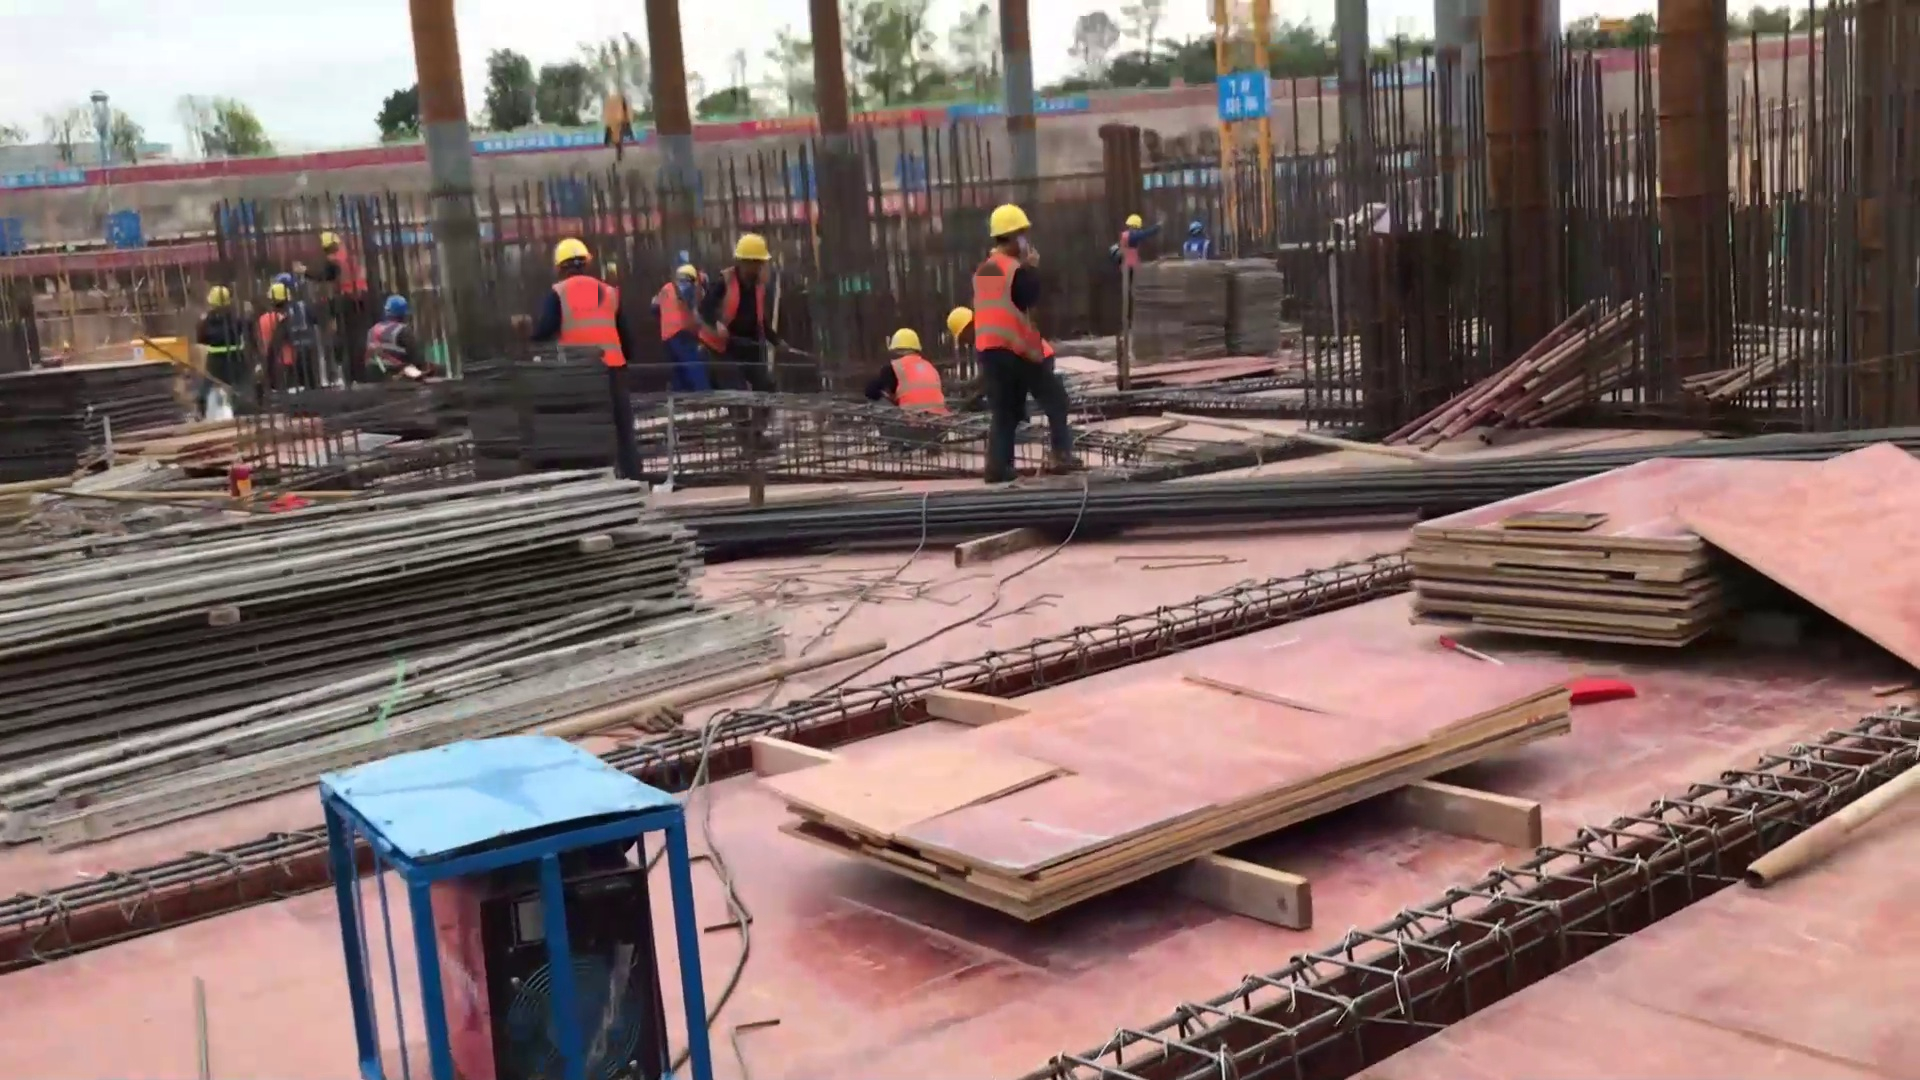board: (861, 621, 1533, 879), (1394, 427, 1920, 631), (3, 356, 193, 459), (1138, 252, 1288, 367), (126, 409, 323, 464)
ebox: (131, 317, 184, 347)
helmet: (993, 202, 1035, 238), (552, 238, 593, 262), (736, 233, 770, 258), (893, 323, 920, 353), (944, 308, 975, 335), (677, 264, 711, 284), (208, 285, 236, 306), (386, 297, 408, 317), (271, 282, 289, 306), (1185, 218, 1206, 234), (324, 227, 338, 250), (1123, 214, 1148, 225), (283, 270, 297, 288)
hook: (600, 93, 633, 167)
person: (971, 196, 1085, 481), (545, 238, 631, 407), (704, 230, 772, 389), (871, 322, 949, 456), (649, 261, 712, 388), (197, 284, 244, 408), (360, 284, 420, 381), (259, 281, 304, 391), (312, 229, 366, 303), (1108, 200, 1154, 286), (269, 269, 319, 340), (1173, 214, 1209, 269)
rebar: (684, 413, 1906, 555)
vest: (983, 251, 1045, 364), (558, 275, 626, 368), (695, 272, 767, 342), (891, 355, 950, 420), (199, 314, 237, 374), (363, 320, 411, 364), (251, 315, 292, 365), (660, 284, 692, 345), (326, 251, 359, 305), (286, 303, 315, 345), (1180, 238, 1213, 264), (1122, 228, 1137, 274)
